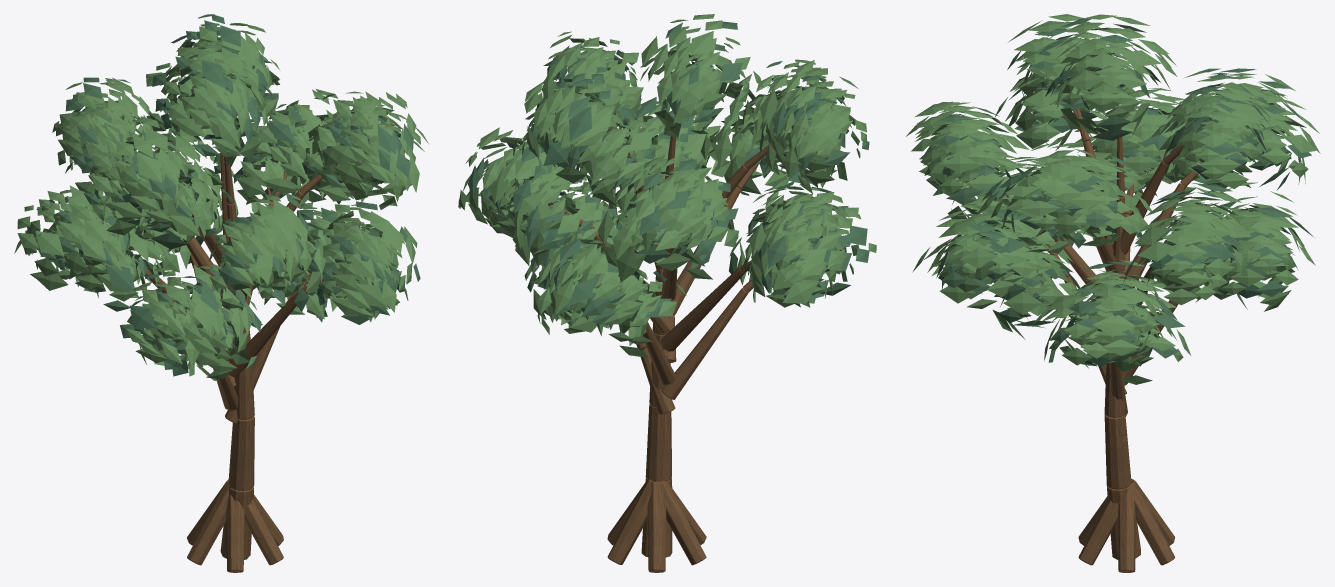
Rendered from linden_young.glb.
The picture shows the model from 3 angles, left to right: view 1: azimuth 30°, elevation 25°; view 2: azimuth 150°, elevation 25°; view 3: azimuth 270°, elevation 25°; orthographic projection. The views are drawn at different scales.
Visible parts, largest first — view 1: Airy supported leaf sprays.001, Airy supported leaf sprays, Asymmetric crown tuft.001, Grounded buttress roots, Primary angled limbs, Tapered curved trunk, Asymmetric crown tuft; view 2: Airy supported leaf sprays.001, Airy supported leaf sprays, Primary angled limbs, Asymmetric crown tuft.001, Grounded buttress roots, Tapered curved trunk, Asymmetric crown tuft, Rising outer limbs; view 3: Airy supported leaf sprays.001, Airy supported leaf sprays, Asymmetric crown tuft.001, Grounded buttress roots, Primary angled limbs, Tapered curved trunk, Asymmetric crown tuft, Rising outer limbs.
Boxes of the visible parts, box(x1,y1,x2,y2) form: Airy supported leaf sprays.001: box(14, 14, 428, 381); Airy supported leaf sprays: box(27, 14, 420, 376); Asymmetric crown tuft.001: box(160, 44, 274, 166); Grounded buttress roots: box(187, 479, 283, 572); Primary angled limbs: box(149, 153, 304, 423); Tapered curved trunk: box(220, 156, 254, 559); Asymmetric crown tuft: box(152, 45, 260, 156); Airy supported leaf sprays.001: box(458, 31, 876, 357); Airy supported leaf sprays: box(468, 38, 869, 329); Primary angled limbs: box(593, 154, 748, 414); Asymmetric crown tuft.001: box(640, 14, 763, 137); Grounded buttress roots: box(607, 479, 706, 572); Tapered curved trunk: box(641, 118, 677, 557); Asymmetric crown tuft: box(661, 21, 755, 130); Rising outer limbs: box(548, 127, 781, 292); Airy supported leaf sprays.001: box(906, 14, 1320, 384); Airy supported leaf sprays: box(919, 28, 1315, 366); Asymmetric crown tuft.001: box(1050, 14, 1177, 141); Grounded buttress roots: box(1078, 478, 1174, 572); Primary angled limbs: box(1052, 140, 1185, 416); Tapered curved trunk: box(1104, 127, 1140, 559); Asymmetric crown tuft: box(1045, 18, 1160, 140); Rising outer limbs: box(1046, 107, 1197, 276).
Bounding box in the file's own units: 2.56 × 3.61 × 2.61.
Materials: 4 (2 with a texture image).
